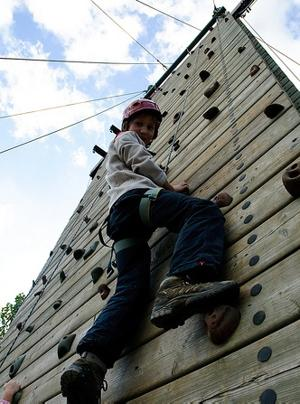person: (61, 98, 238, 403)
